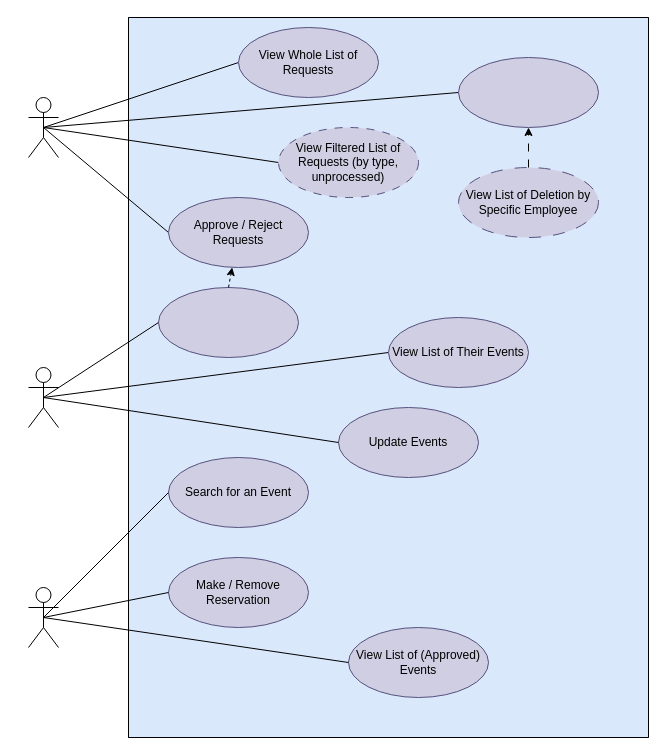
Image size: 666x755. Some labels were removed from this diagram. Here are the shapes that lost their labels. From the top down, the centre of each, then its label:
At point 528,92: "Delete Events without requests".
At point 43,127: "Employee".
At point 228,322: "Make Request to Add/ Delete an Event".
At point 43,397: "Organizer".
At point 43,617: "Visitor".
